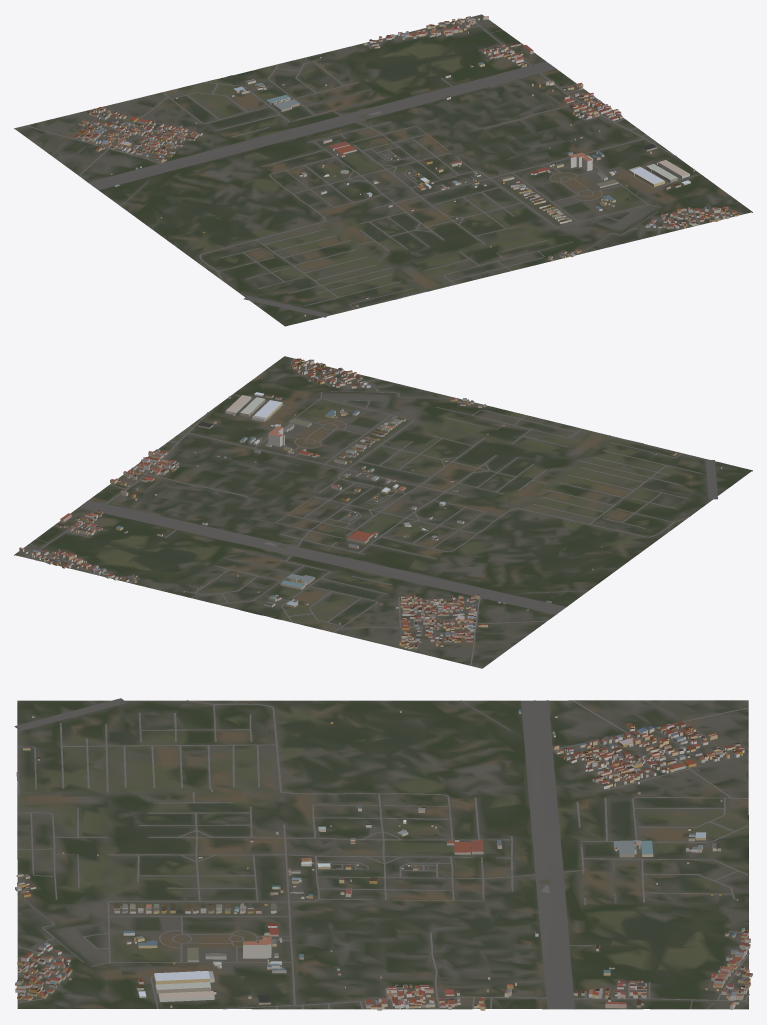
3 renders of one model, top to bottom at view 1: azimuth 30°, elevation 25°; view 2: azimuth 150°, elevation 25°; view 3: azimuth 270°, elevation 25°, orthographic. The views are drawn at different scales.
Visible parts, largest first — view 1: ground, roads, buildings; view 2: ground, roads, buildings; view 3: ground, roads, buildings.
Boxes of the visible parts, x1,y1,x2,y2 form: ground: [14, 14, 752, 326]; roads: [25, 19, 743, 317]; buildings: [73, 16, 739, 316]; ground: [14, 356, 752, 668]; roads: [25, 358, 717, 665]; buildings: [19, 358, 722, 649]; ground: [17, 700, 748, 1009]; roads: [14, 698, 749, 1009]; buildings: [15, 709, 752, 1010].
Bounding box in the file's own units: 1414 × 32.81 × 1416.
